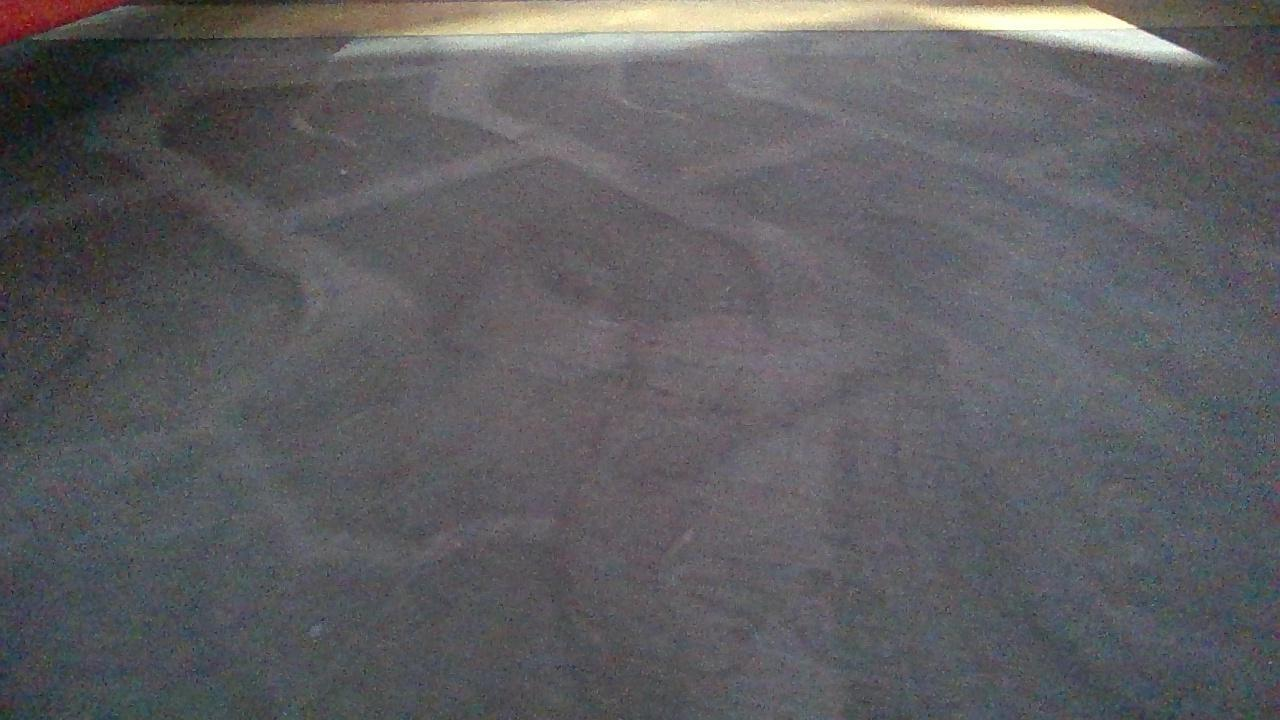yellow_line: (19, 0, 1279, 38)
